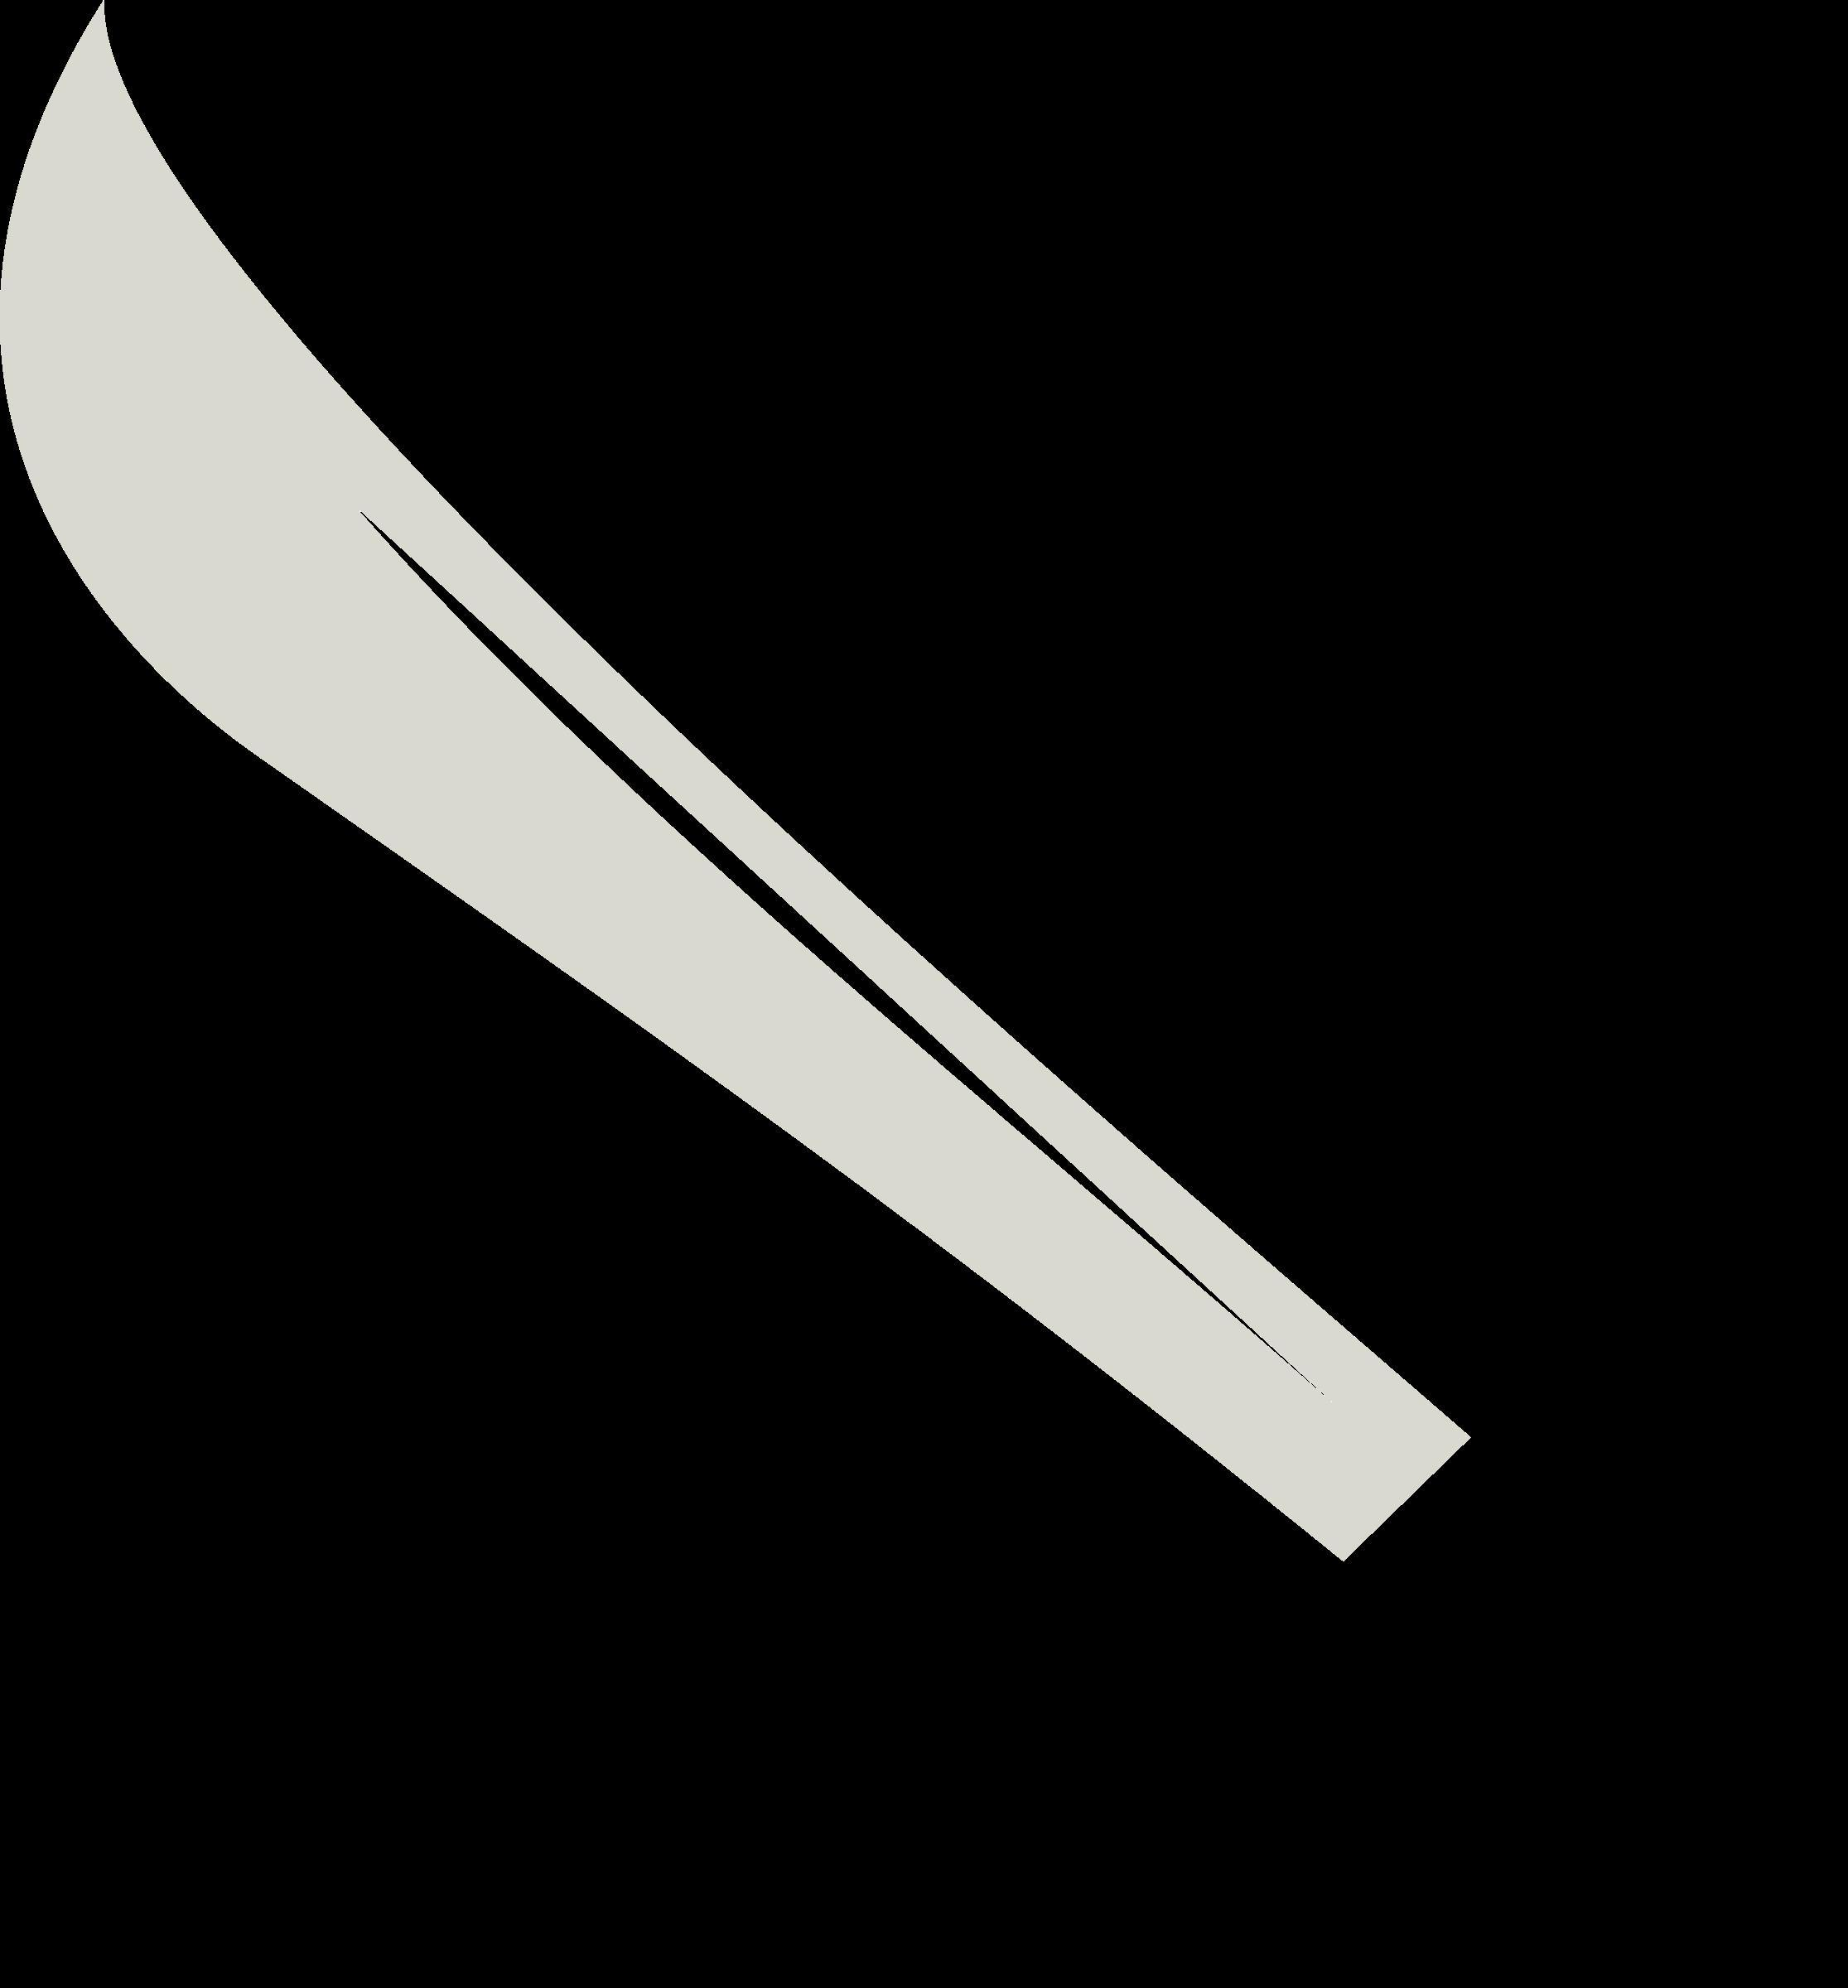facao: (0, 10, 1466, 1557)
